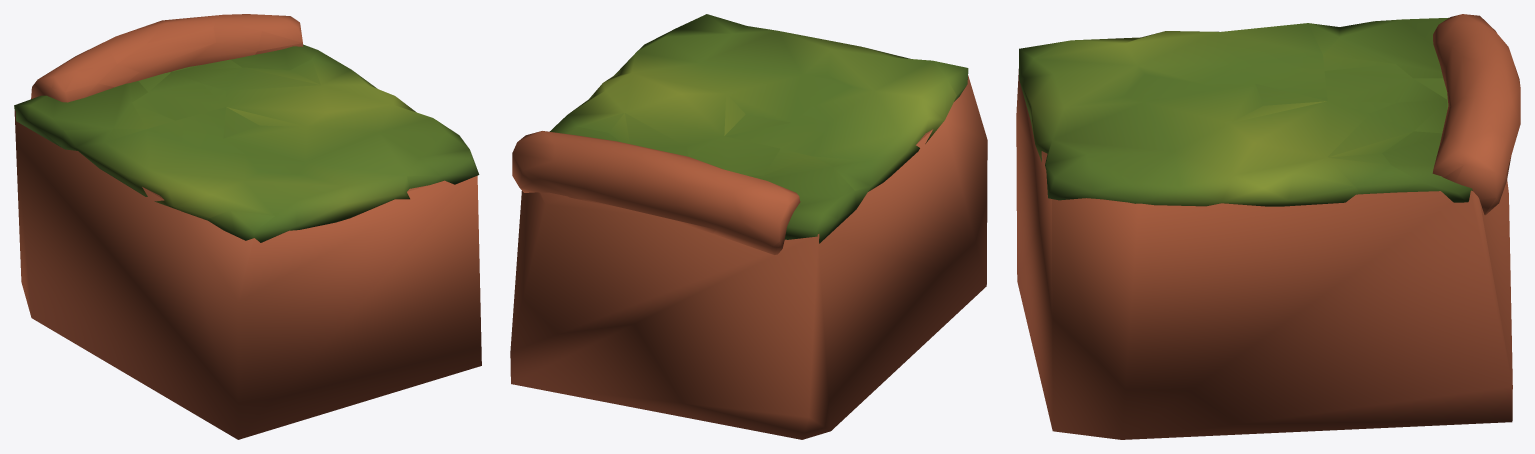
Rendered from mire_pot_shard_lod2.glb.
The picture shows the model from 3 angles, left to right: view 1: azimuth 30°, elevation 25°; view 2: azimuth 150°, elevation 25°; view 3: azimuth 270°, elevation 25°; orthographic projection. The views are drawn at different scales.
Parts seen in each view (by area): view 1: mire_pot_shard.001; view 2: mire_pot_shard.001; view 3: mire_pot_shard.001.
Part boxes in pixels (box(x1,y1,x2,y2)): mire_pot_shard.001: box(14, 14, 481, 439); mire_pot_shard.001: box(510, 14, 987, 439); mire_pot_shard.001: box(1016, 14, 1520, 439).
Bounding box in the file's own units: 5.47 × 4.14 × 6.53.
